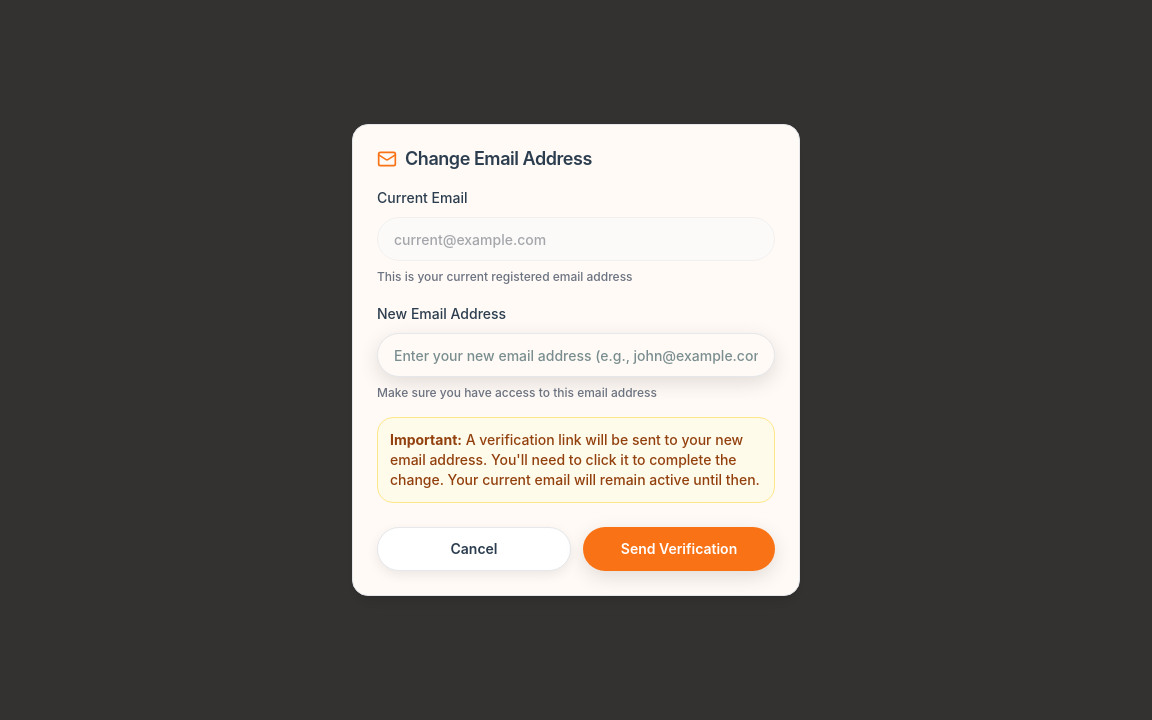
Test: EmailChangeDialog › handles email already in use error
Type "existing@example.com" into the field with placeholder "Enter your new email address (e.g., john@example.com)" at (576, 355), box [377, 333, 775, 377]
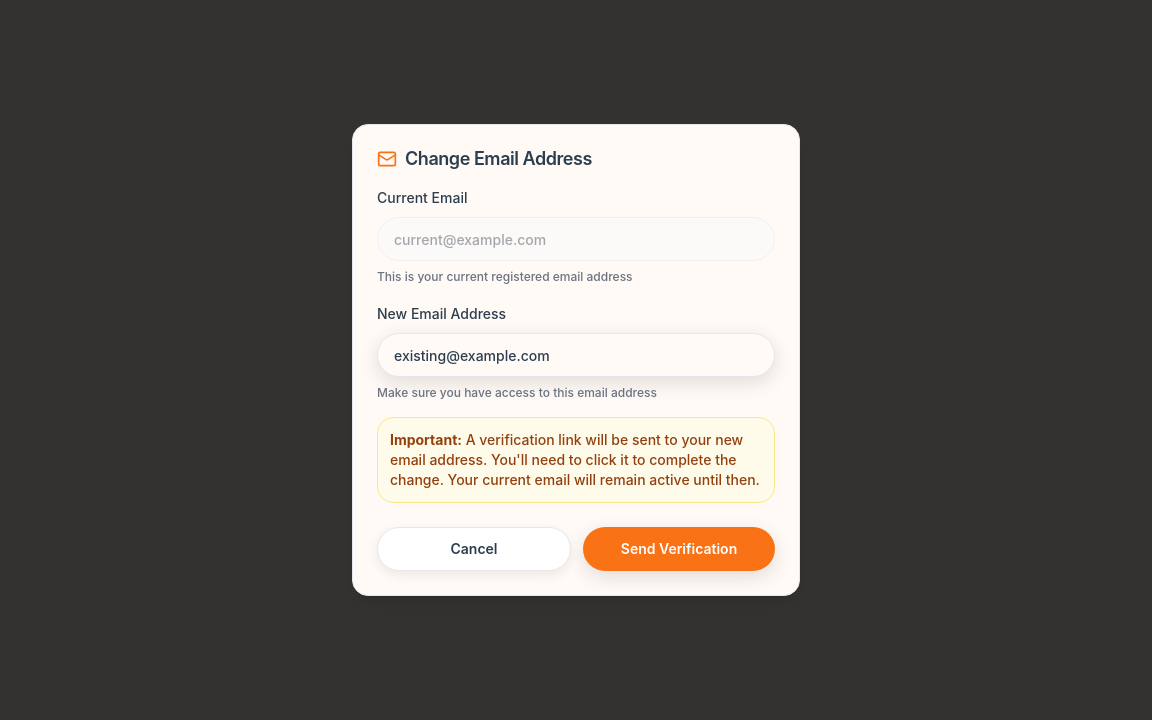
Click the button "Send Verification" at (679, 549), box [583, 527, 775, 571]
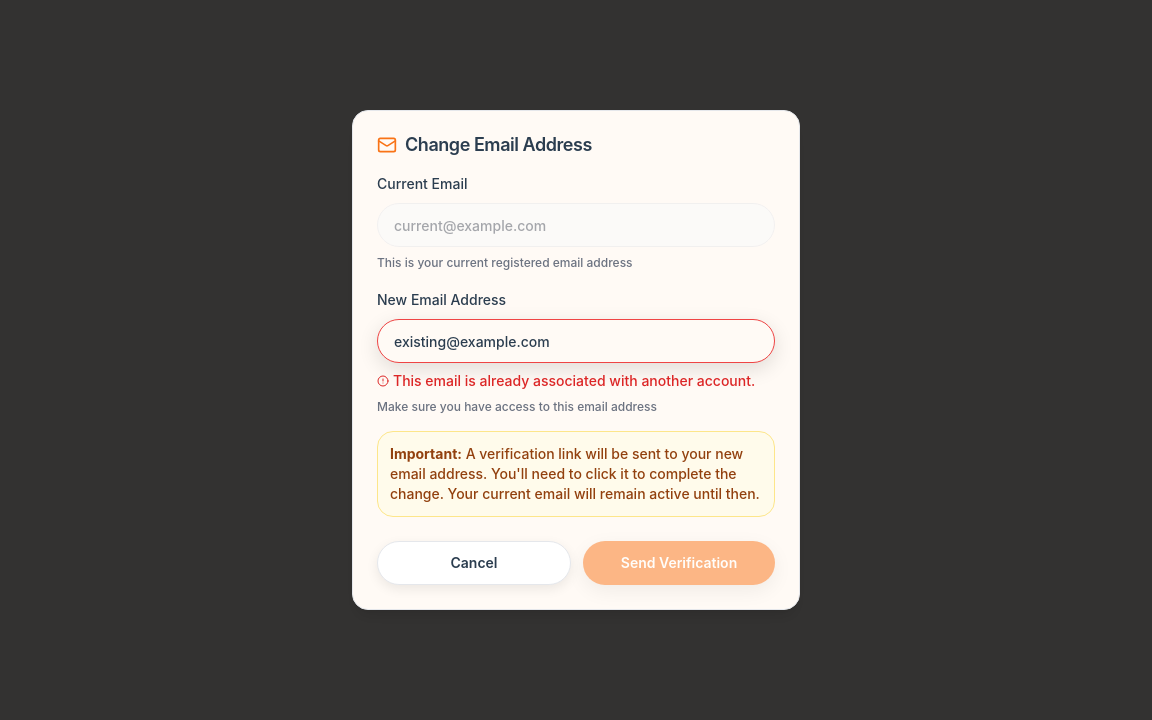
Now the text "This email is already associated with another account." is shown, box [393, 371, 755, 391]
